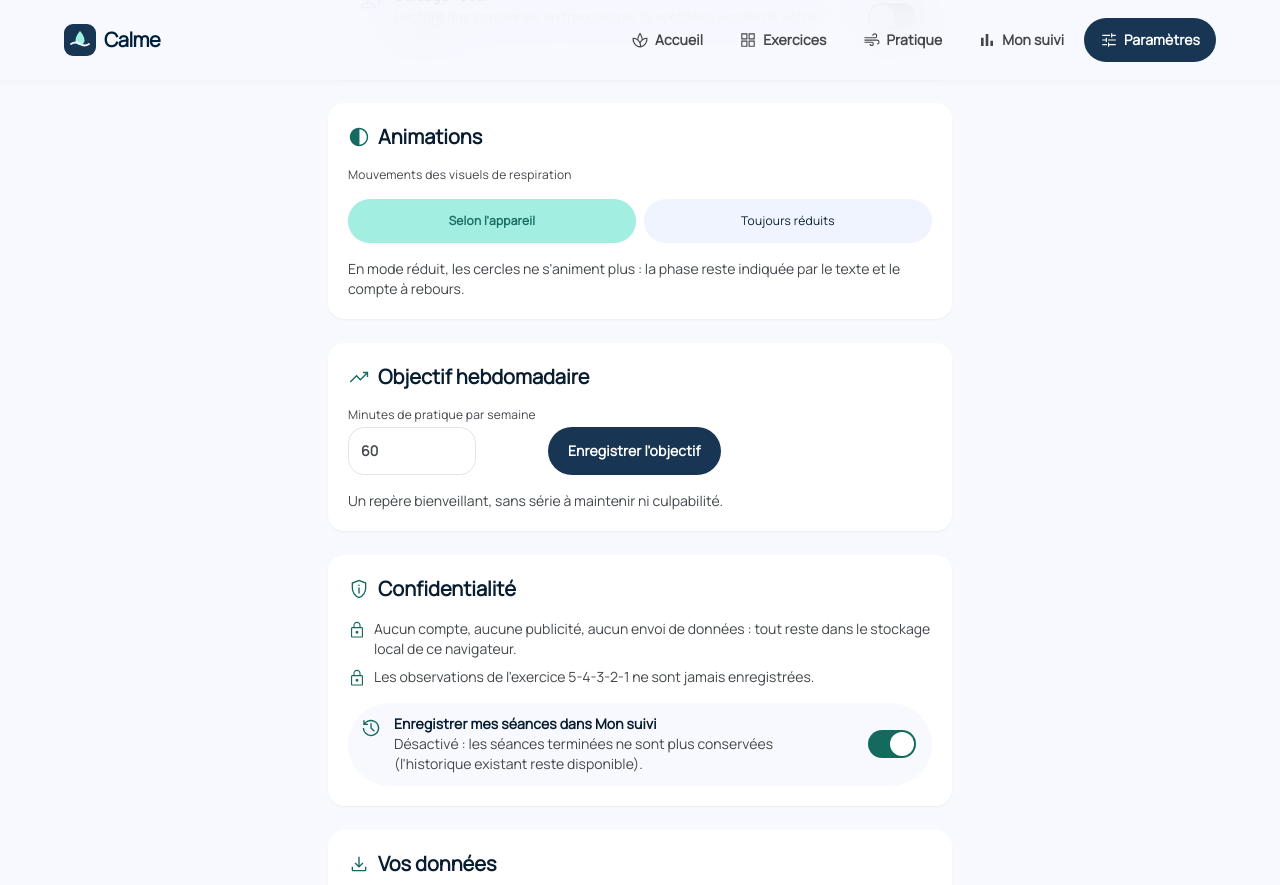
Test: Paramètres › reports a failed preference write without crashing
(page scrolled)
Click the button "Enregistrer l'objectif": click(634, 450) [548, 426, 720, 474]
(page scrolled)
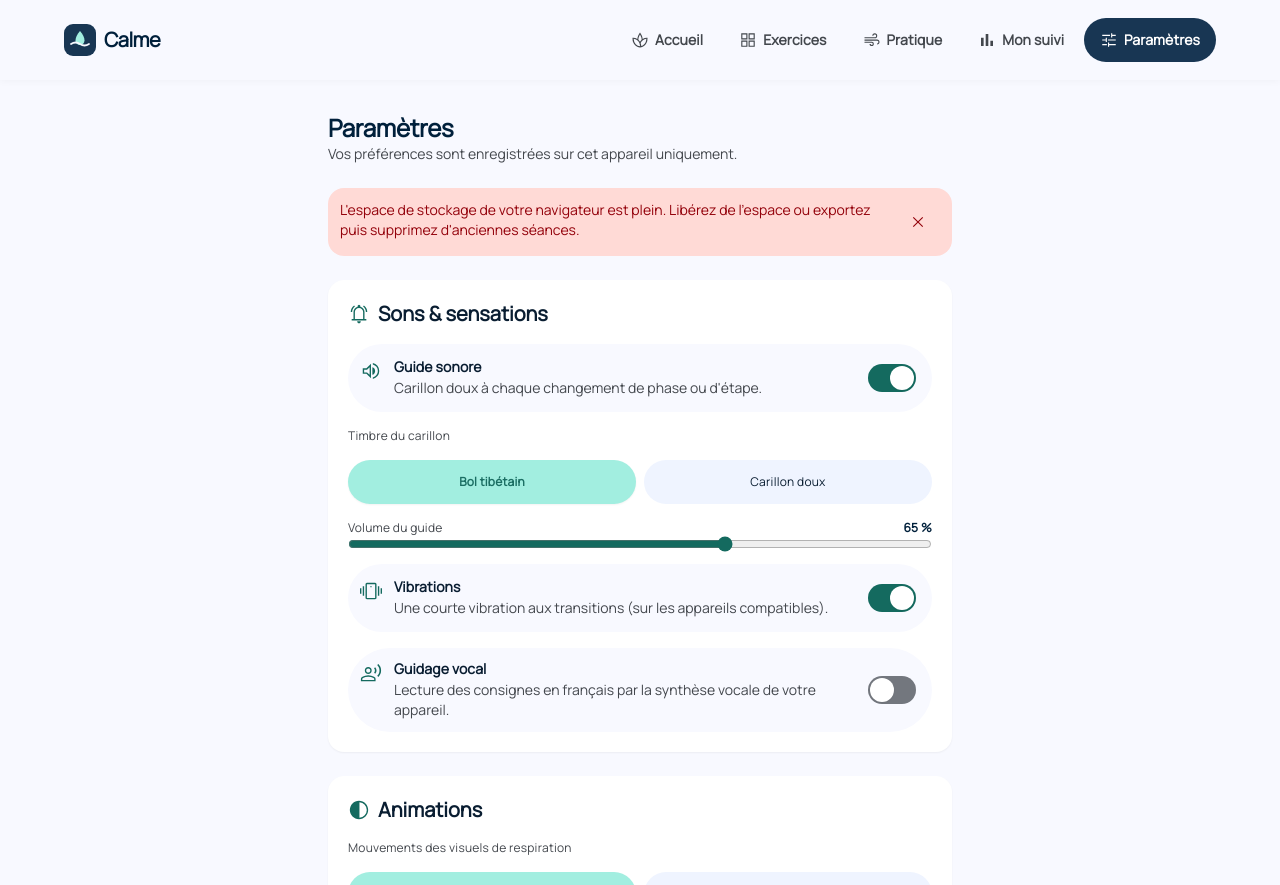
Now the message shows "stockage de votre navigateur est plein", box [340, 200, 871, 239]
